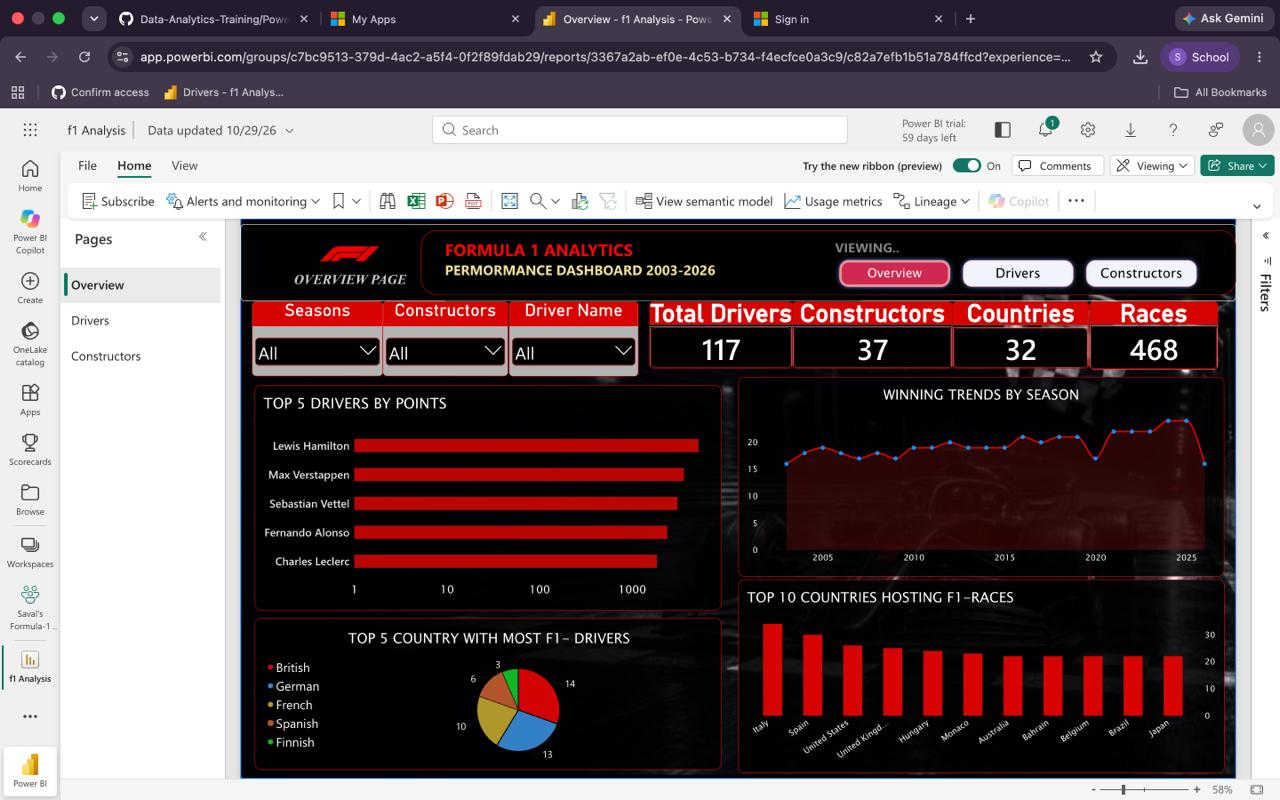

The page's visual inventory and layout, read from the dashboard file:
{"tool":"powerbi","page":{"name":"Overview","canvas":[1920,1080],"ordinal":0},"visuals":[{"type":"textbox","box":[0,10.8,1920.2,149],"z":0},{"type":"cardVisual","title":"Total Drivers","fields":{"Data":["Count(f1_main.driver_name)"]},"box":[788.4,159.8,276.5,129.6],"z":1000},{"type":"cardVisual","title":" Constructors","fields":{"Data":["Count(f1_main.constructor_name)"]},"box":[1064.9,159.8,308.9,129.6],"z":2000},{"type":"cardVisual","title":"Countries","fields":{"Data":["Count(f1_main.driver_nationality)"]},"box":[1373.8,159.8,263.5,129.6],"z":3000},{"type":"image","box":[25.9,0,369.4,164.2],"z":4000},{"type":"cardVisual","title":" Races","fields":{"Data":["Count(f1_main.race_date)"]},"box":[1637.3,159.8,248.4,131.8],"z":5000},{"type":"textbox","box":[58.3,101.5,306.7,62.6],"z":6000},{"type":"slicer","title":"Seasons","fields":{"Values":["f1_main.season"]},"box":[22.5,160,252.7,144.7],"z":7000},{"type":"slicer","title":"Constructors","fields":{"Values":["f1_main.constructor_name"]},"box":[275,160,241.9,144.7],"z":8000},{"type":"slicer","title":"Driver Name","fields":{"Values":["f1_main.driver_name"]},"box":[517.5,160,250,145],"z":9000},{"type":"clusteredBarChart","title":"TOP 5 DRIVERS BY POINTS","fields":{"Category":["f1_main.driver_name"],"Y":["Sum(f1_main.points)"]},"box":[26.7,320,900,435.6],"z":10000},{"type":"lineChart","title":"WINNING TRENDS BY SEASON","fields":{"Category":["f1_main.season"],"Y":["Sum(f1_main.is_win)"]},"box":[960,305,937.5,385],"z":11000},{"type":"columnChart","title":"TOP 10 COUNTRIES HOSTING F1-RACES","fields":{"Category":["f1_main.circuit_country"],"Y":["Count(f1_main.race_date)"]},"box":[960,695.6,937.8,373.3],"z":12000},{"type":"pieChart","title":"TOP 5 COUNTRY WITH MOST F1- DRIVERS","fields":{"Category":["f1_main.driver_nationality"],"Y":["Count(f1_main.driver_name)"]},"box":[26.7,768.9,900,293.3],"z":13000},{"type":"shape","box":[347.5,22.5,1572.5,125],"z":14000},{"type":"textbox","box":[395,37.5,802.5,122.5],"z":15000},{"type":"pageNavigator","title":"VIEWING..","box":[1146.7,37.8,706.7,102.2],"z":16001}]}

Visuals, with their boxes on the page's 1920x1080 design canvas (x1, y1, x2, y2). These are canvas units, not pixel positions in the 1280x800 screenshot, which may show the page scaled, cropped or inside an application window:
textbox: (x1=0, y1=11, x2=1920, y2=160)
"Total Drivers" cardVisual: (x1=788, y1=160, x2=1065, y2=289)
" Constructors" cardVisual: (x1=1065, y1=160, x2=1374, y2=289)
"Countries" cardVisual: (x1=1374, y1=160, x2=1637, y2=289)
image: (x1=26, y1=0, x2=395, y2=164)
" Races" cardVisual: (x1=1637, y1=160, x2=1886, y2=292)
textbox: (x1=58, y1=102, x2=365, y2=164)
"Seasons" slicer: (x1=22, y1=160, x2=275, y2=305)
"Constructors" slicer: (x1=275, y1=160, x2=517, y2=305)
"Driver Name" slicer: (x1=518, y1=160, x2=768, y2=305)
"TOP 5 DRIVERS BY POINTS" clusteredBarChart: (x1=27, y1=320, x2=927, y2=756)
"WINNING TRENDS BY SEASON" lineChart: (x1=960, y1=305, x2=1898, y2=690)
"TOP 10 COUNTRIES HOSTING F1-RACES" columnChart: (x1=960, y1=696, x2=1898, y2=1069)
"TOP 5 COUNTRY WITH MOST F1- DRIVERS" pieChart: (x1=27, y1=769, x2=927, y2=1062)
shape: (x1=348, y1=22, x2=1920, y2=148)
textbox: (x1=395, y1=38, x2=1198, y2=160)
"VIEWING.." pageNavigator: (x1=1147, y1=38, x2=1853, y2=140)
